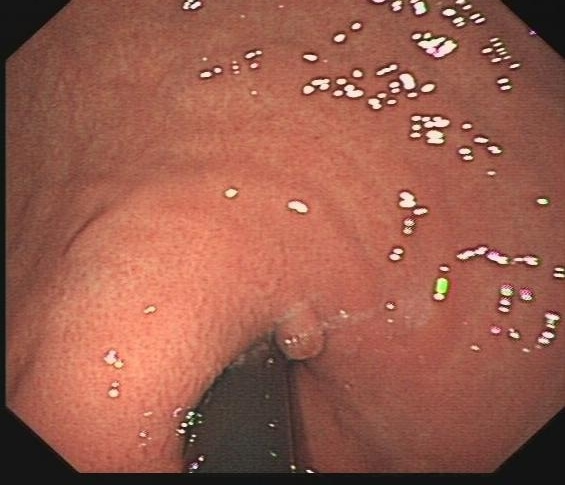Polyp: (274, 303, 333, 361)
